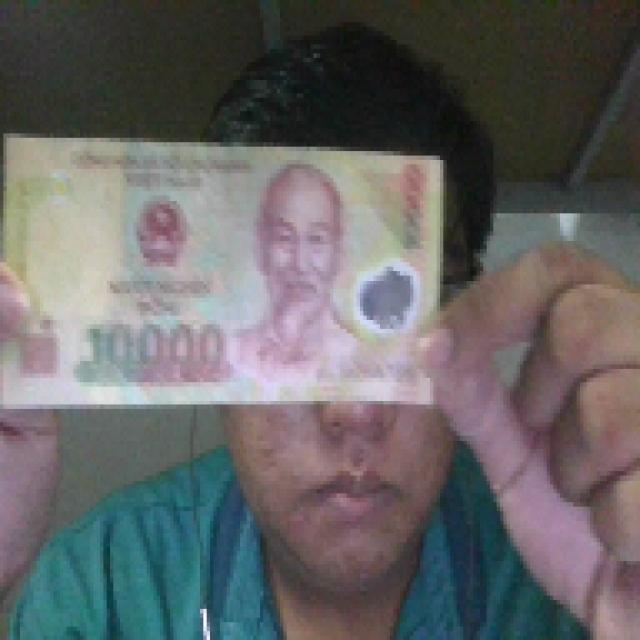10 000 VND: (0, 124, 447, 409)
